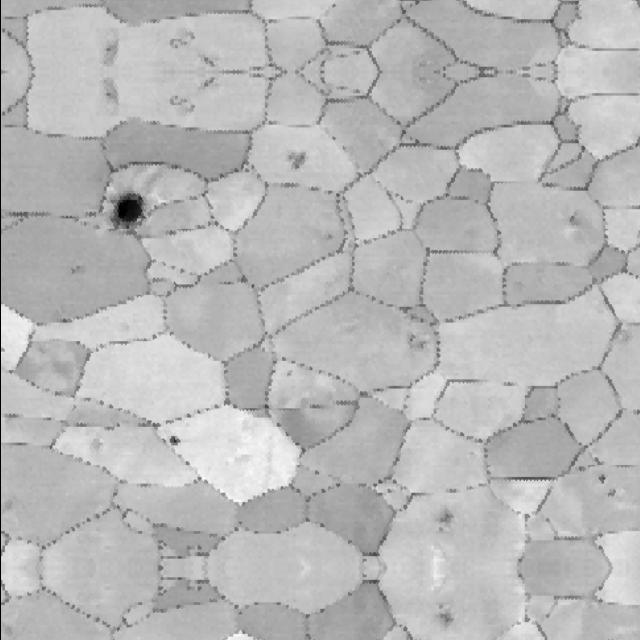good_void: (112, 182, 152, 236), (563, 205, 589, 243), (428, 507, 459, 537), (428, 601, 459, 631), (166, 92, 200, 117), (166, 28, 200, 53), (402, 332, 431, 355), (96, 79, 119, 108), (96, 38, 119, 67), (285, 146, 310, 172), (215, 274, 249, 290), (194, 51, 218, 72), (194, 74, 218, 94), (169, 430, 184, 455), (87, 434, 106, 453), (67, 262, 86, 279), (602, 483, 618, 502), (511, 276, 527, 294), (322, 229, 334, 245), (596, 471, 608, 486), (283, 366, 294, 380), (0, 347, 7, 355)
